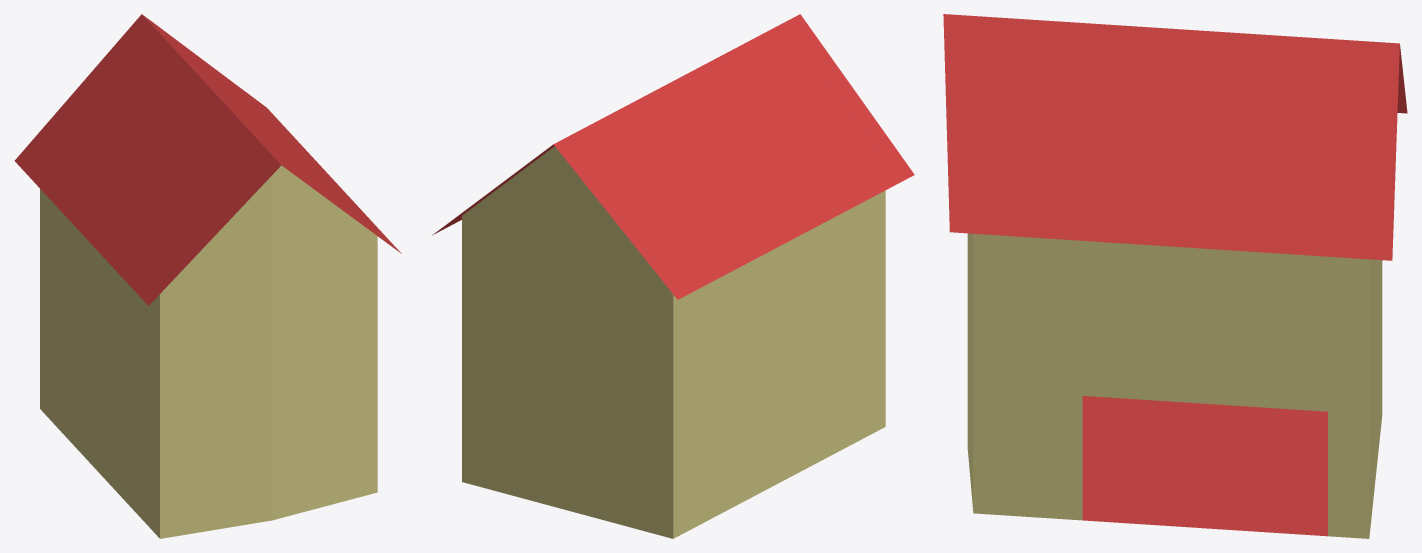
3 views of the same model, side by side, from view 1: azimuth 30°, elevation 25°; view 2: azimuth 150°, elevation 25°; view 3: azimuth 270°, elevation 25° (orthographic). The views are drawn at different scales.
Size of the model in its own units: 12.61 by 14.32 by 14.83.
